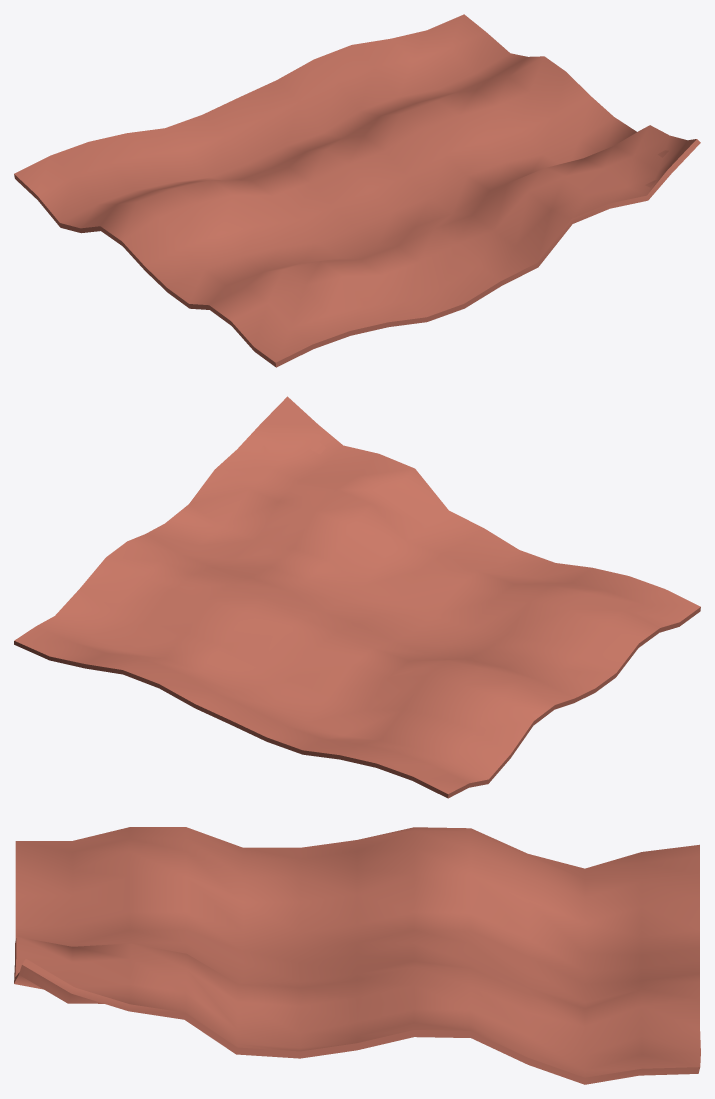
The model's file is フェルト.fbx.
The picture shows the model from 3 angles, top to bottom: view 1: azimuth 30°, elevation 25°; view 2: azimuth 150°, elevation 25°; view 3: azimuth 270°, elevation 25°; orthographic projection. The views are drawn at different scales.
Visible parts, largest first — view 1: pCube1; view 2: pCube1; view 3: pCube1.
Boxes of the visible parts, box(x1,y1,x2,y2) form: pCube1: box(14, 14, 700, 367); pCube1: box(14, 396, 700, 798); pCube1: box(14, 827, 700, 1084).
Size of the model in its own units: 7.07 by 2.12 by 7.08.
